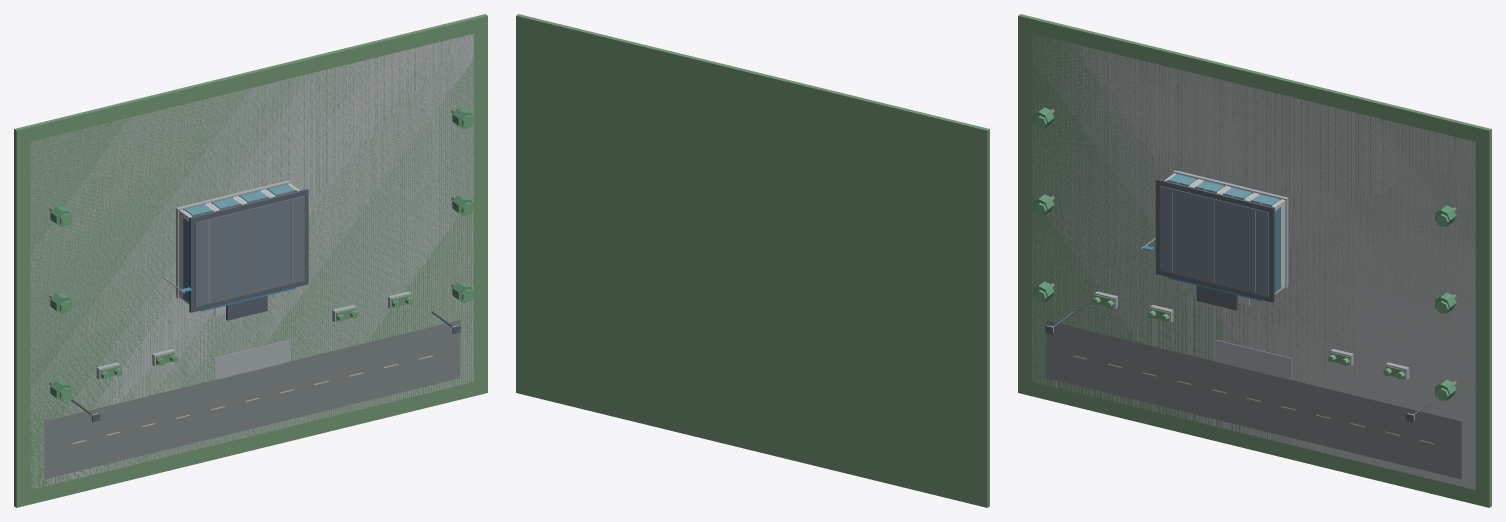
File: commercial_building_level_1.glb
The picture shows the model from 3 angles, left to right: view 1: azimuth 30°, elevation 25°; view 2: azimuth 150°, elevation 25°; view 3: azimuth 330°, elevation 25°; orthographic projection.
Parts seen in each view (by area): view 1: part_00000, part_00001, part_00002, part_00057, part_00056, part_00119, part_00054, part_00110, part_00055, part_00093; view 2: part_00000; view 3: part_00001, part_00000, part_00002, part_00057, part_00056, part_00119, part_00054, part_00110, part_00055.
Boxes of the visible parts, left/top/right/bottom form: part_00000: left=14, top=14, right=487, bottom=507; part_00001: left=30, top=33, right=473, bottom=489; part_00002: left=44, top=320, right=460, bottom=479; part_00057: left=195, top=196, right=304, bottom=306; part_00056: left=189, top=189, right=308, bottom=312; part_00119: left=214, top=339, right=290, bottom=380; part_00054: left=176, top=181, right=299, bottom=304; part_00110: left=226, top=295, right=267, bottom=320; part_00055: left=176, top=180, right=291, bottom=298; part_00093: left=183, top=217, right=189, bottom=302; part_00000: left=516, top=14, right=989, bottom=507; part_00001: left=1032, top=33, right=1475, bottom=489; part_00000: left=1018, top=14, right=1491, bottom=507; part_00002: left=1045, top=320, right=1461, bottom=479; part_00057: left=1160, top=186, right=1268, bottom=296; part_00056: left=1155, top=178, right=1274, bottom=302; part_00119: left=1215, top=339, right=1291, bottom=380; part_00054: left=1164, top=170, right=1288, bottom=294; part_00110: left=1196, top=285, right=1238, bottom=310; part_00055: left=1173, top=170, right=1287, bottom=288.
Bounding box in the file's own units: 68 × 52 × 6.71.
